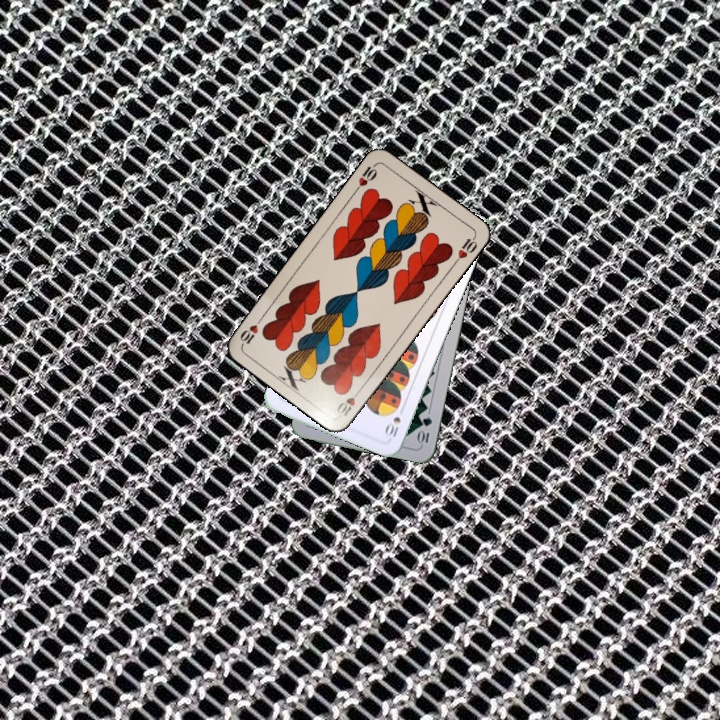G10: (414, 412, 435, 447)
H10: (332, 384, 364, 420), (351, 160, 380, 195)
S10: (381, 412, 403, 440)
